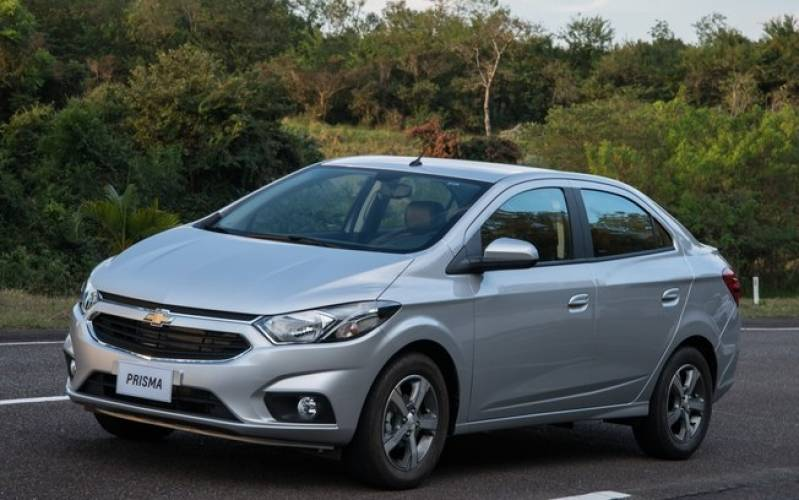Carro: (66, 148, 744, 490)
